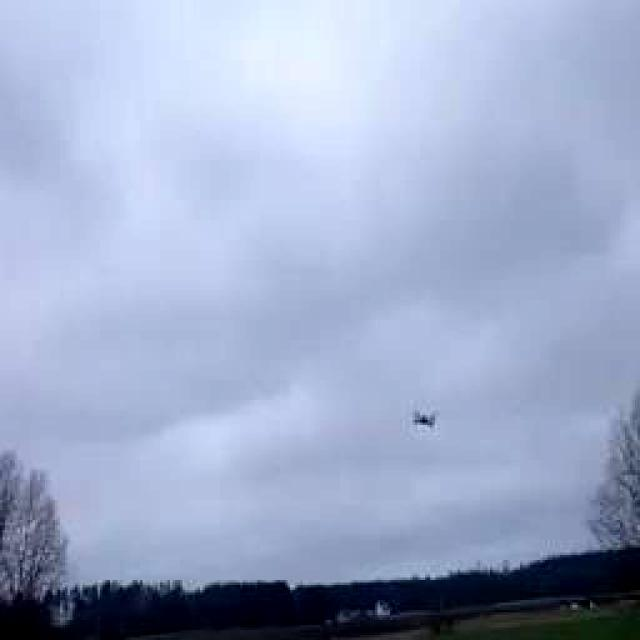bird: (396, 394, 454, 441)
